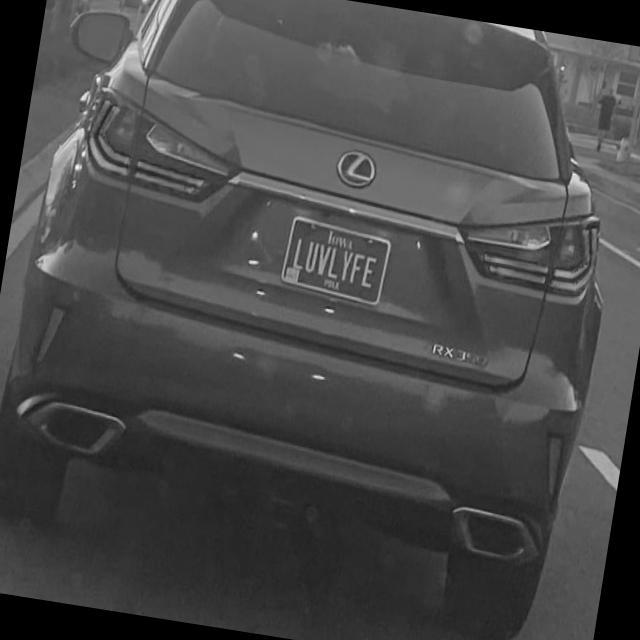LicensePlate: (279, 213, 393, 310)
